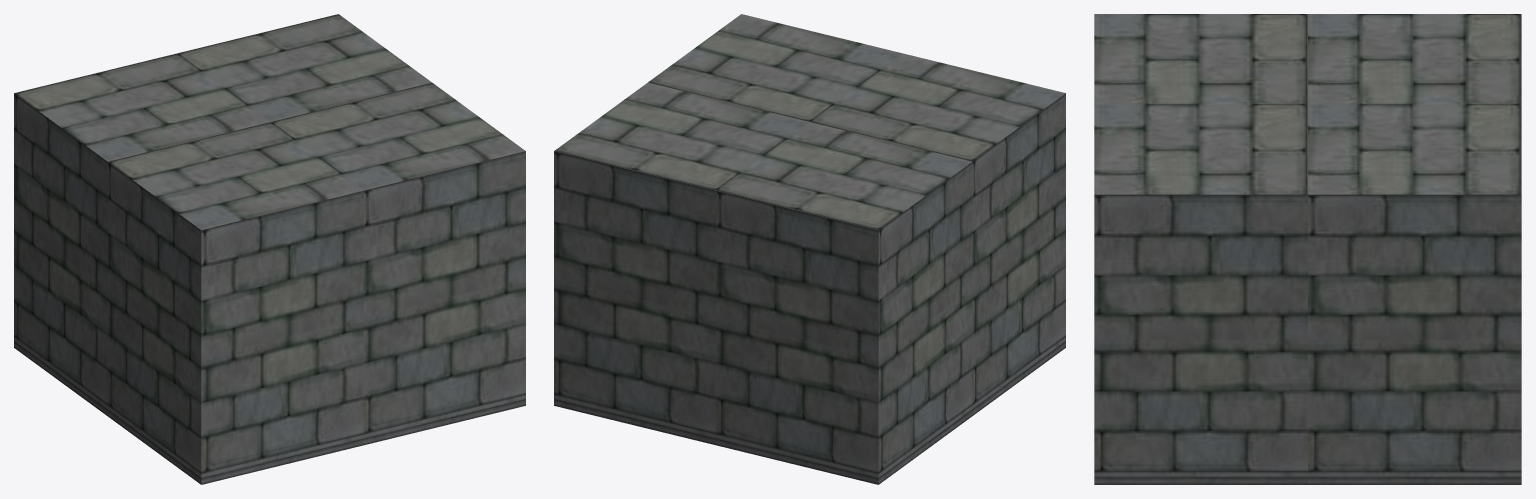
File: sd_block_large_01.glb
The picture shows the model from 3 angles, left to right: view 1: azimuth 30°, elevation 25°; view 2: azimuth 150°, elevation 25°; view 3: azimuth 270°, elevation 25°; orthographic projection. The views are drawn at different scales.
Visible parts, largest first — view 1: block_large_01; view 2: block_large_01; view 3: block_large_01.
Part boxes in pixels (x1,y1,x2,y2): block_large_01: (14, 14, 525, 484); block_large_01: (554, 14, 1065, 484); block_large_01: (1094, 14, 1521, 484).
Size of the model in its own units: 4 by 3 by 4.
Materials: 1 (1 with a texture image).
